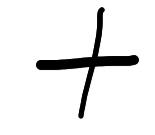plus: (36, 7, 139, 119)
